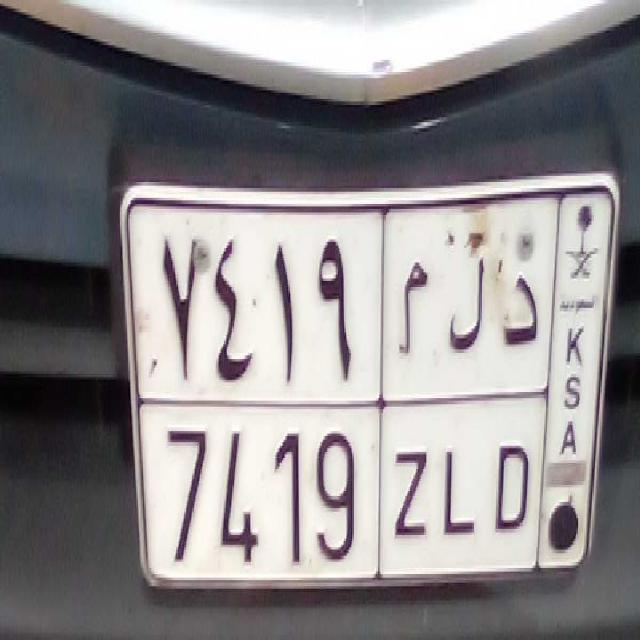license_plate: (137, 399, 545, 592)
